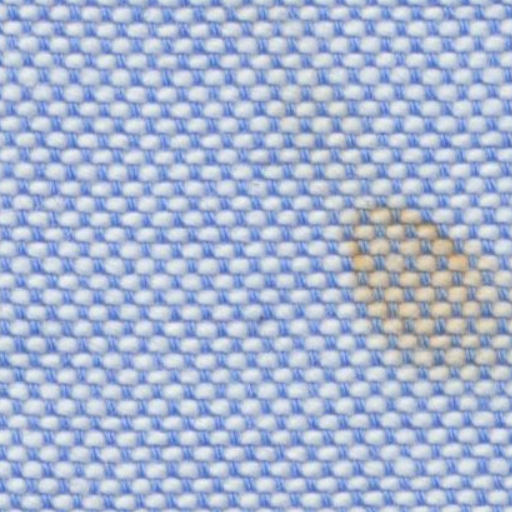WuZi: (325, 186, 502, 382)
